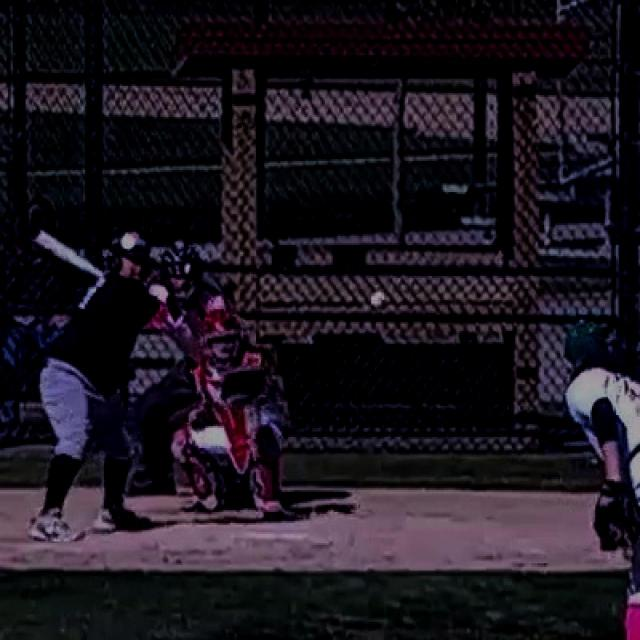baseball: (371, 294, 383, 306)
